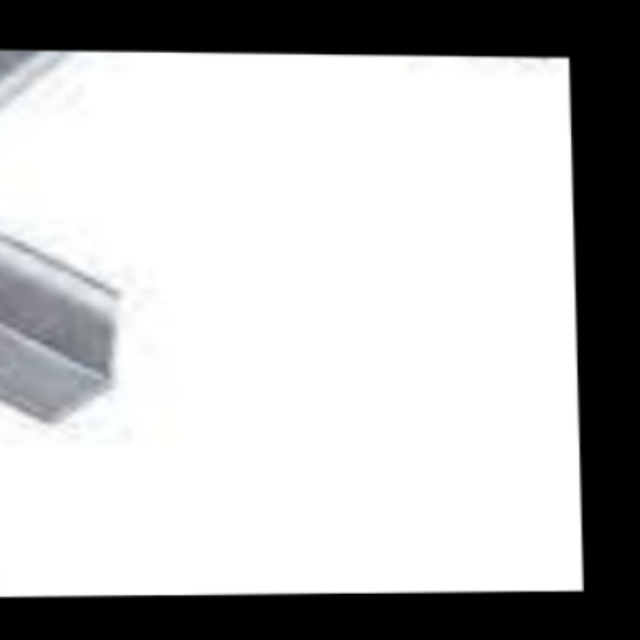Angle: (0, 49, 141, 136), (37, 299, 131, 418)
